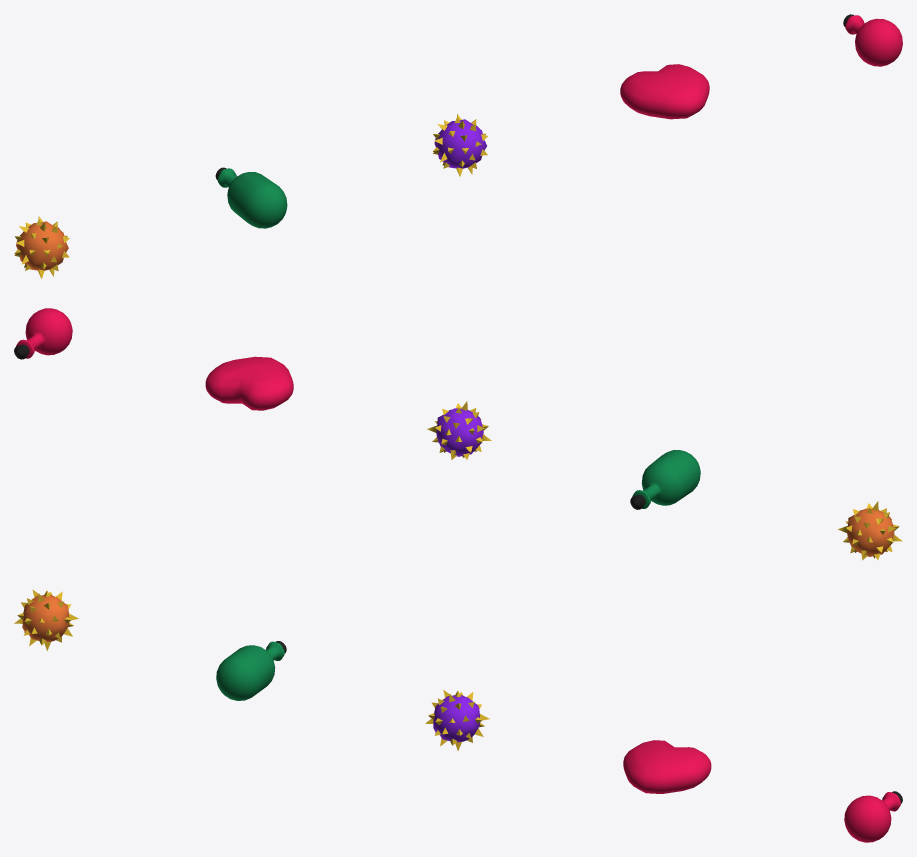
The model's file is BonusSet.fbx.
The picture shows the model from 3 angles, top to bottom: view 1: azimuth 30°, elevation 25°; view 2: azimuth 150°, elevation 25°; view 3: azimuth 330°, elevation 25°; orthographic projection.
Visible parts, largest first — view 1: Heart, Toxin, MagicBall, FireBall, Medic; view 2: Heart, Toxin, FireBall, MagicBall, Medic; view 3: Heart, Toxin, FireBall, MagicBall, Medic.
Part boxes in pixels (left/top/right/bottom): Heart: left=620, top=64, right=709, bottom=119; Toxin: left=215, top=167, right=287, bottom=228; MagicBall: left=433, top=114, right=487, bottom=176; FireBall: left=14, top=216, right=69, bottom=278; Medic: left=843, top=14, right=902, bottom=66; Heart: left=205, top=356, right=293, bottom=410; Toxin: left=630, top=450, right=700, bottom=509; FireBall: left=838, top=501, right=902, bottom=560; MagicBall: left=427, top=401, right=491, bottom=459; Medic: left=14, top=308, right=72, bottom=359; Heart: left=623, top=740, right=711, bottom=793; Toxin: left=216, top=641, right=286, bottom=700; FireBall: left=14, top=589, right=78, bottom=650; MagicBall: left=425, top=690, right=489, bottom=750; Medic: left=844, top=791, right=902, bottom=842.
Size of the model in its own units: 2114 by 130 by 230.
